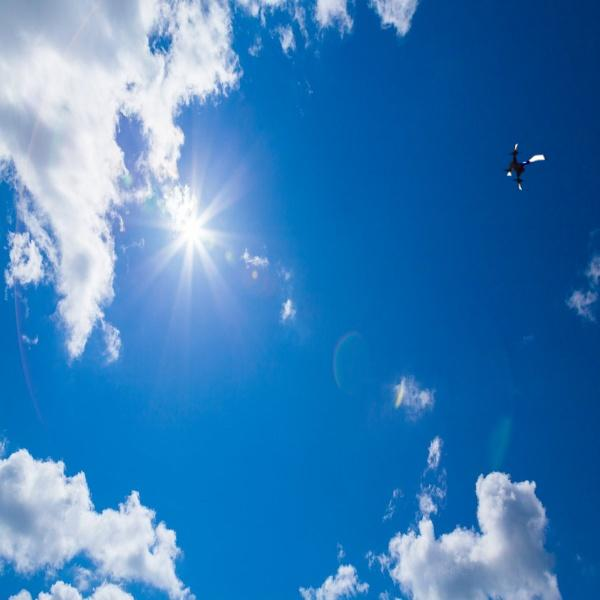drone: (501, 143, 553, 195)
